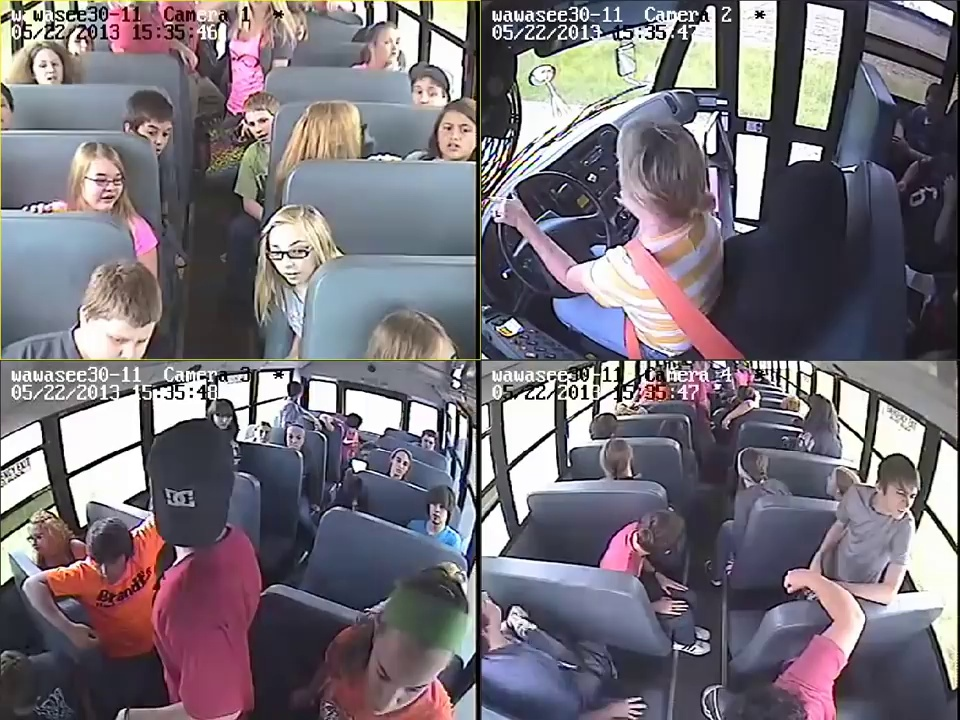face: (370, 651, 430, 720), (268, 227, 314, 280), (97, 314, 149, 360), (85, 162, 125, 211), (440, 116, 474, 155), (887, 478, 918, 519), (413, 73, 443, 107), (33, 52, 64, 82), (143, 119, 172, 151), (24, 522, 50, 556), (378, 32, 402, 64), (249, 111, 268, 142), (428, 500, 450, 526), (285, 427, 305, 451), (212, 413, 233, 430), (392, 456, 410, 475), (253, 424, 271, 442), (423, 435, 434, 449)
